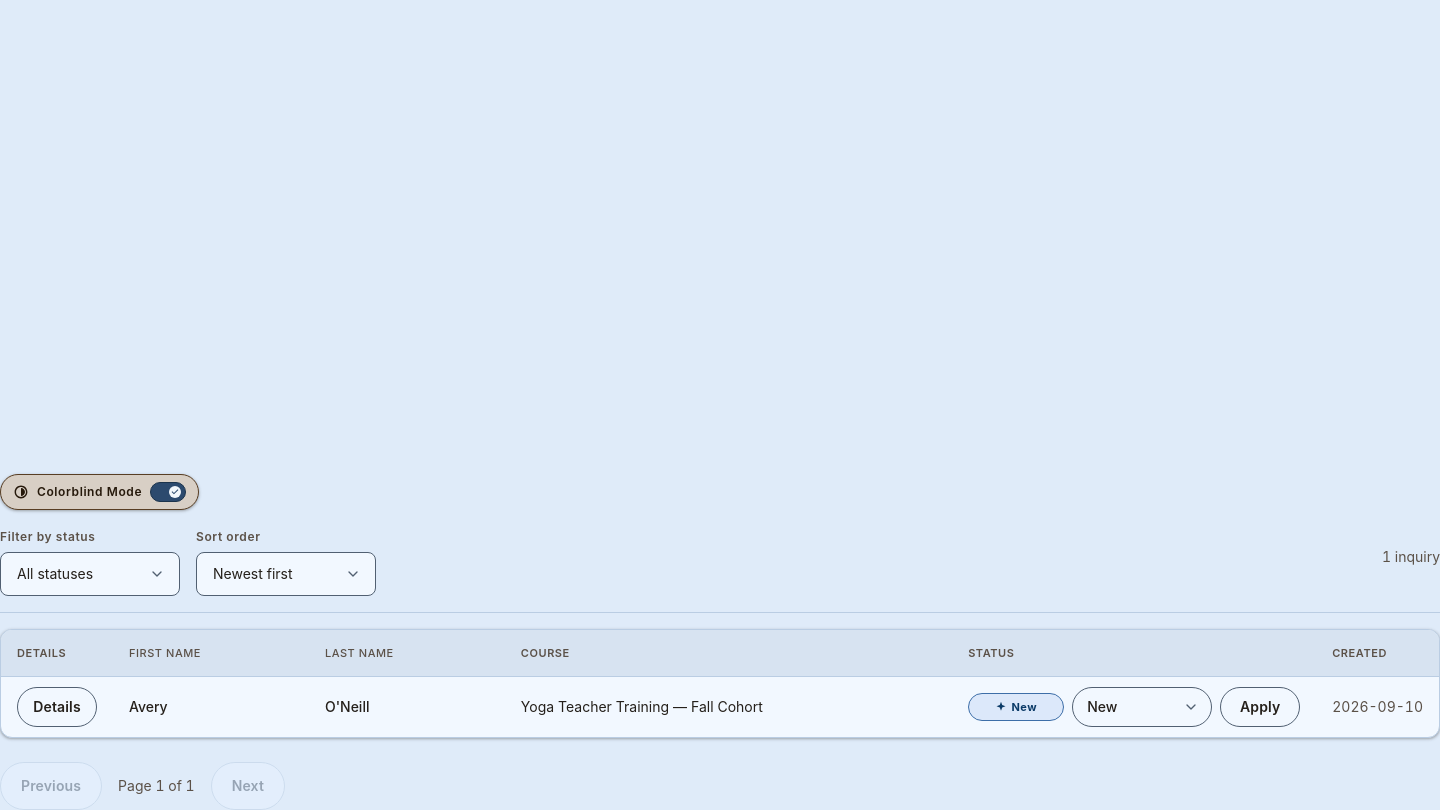
Material Design 3 Colorblind Mode › renders multimodal status badge inside DetailPanel modal when colorblind mode is active
(page scrolled)
Expected: the row "O'Neill" is shown, top-left (1, 677), bottom-right (1439, 737)
Step 1. Click the button with aria-label "Details for Avery O'Neill" → (57, 707), box top-left (17, 687), bottom-right (97, 727)
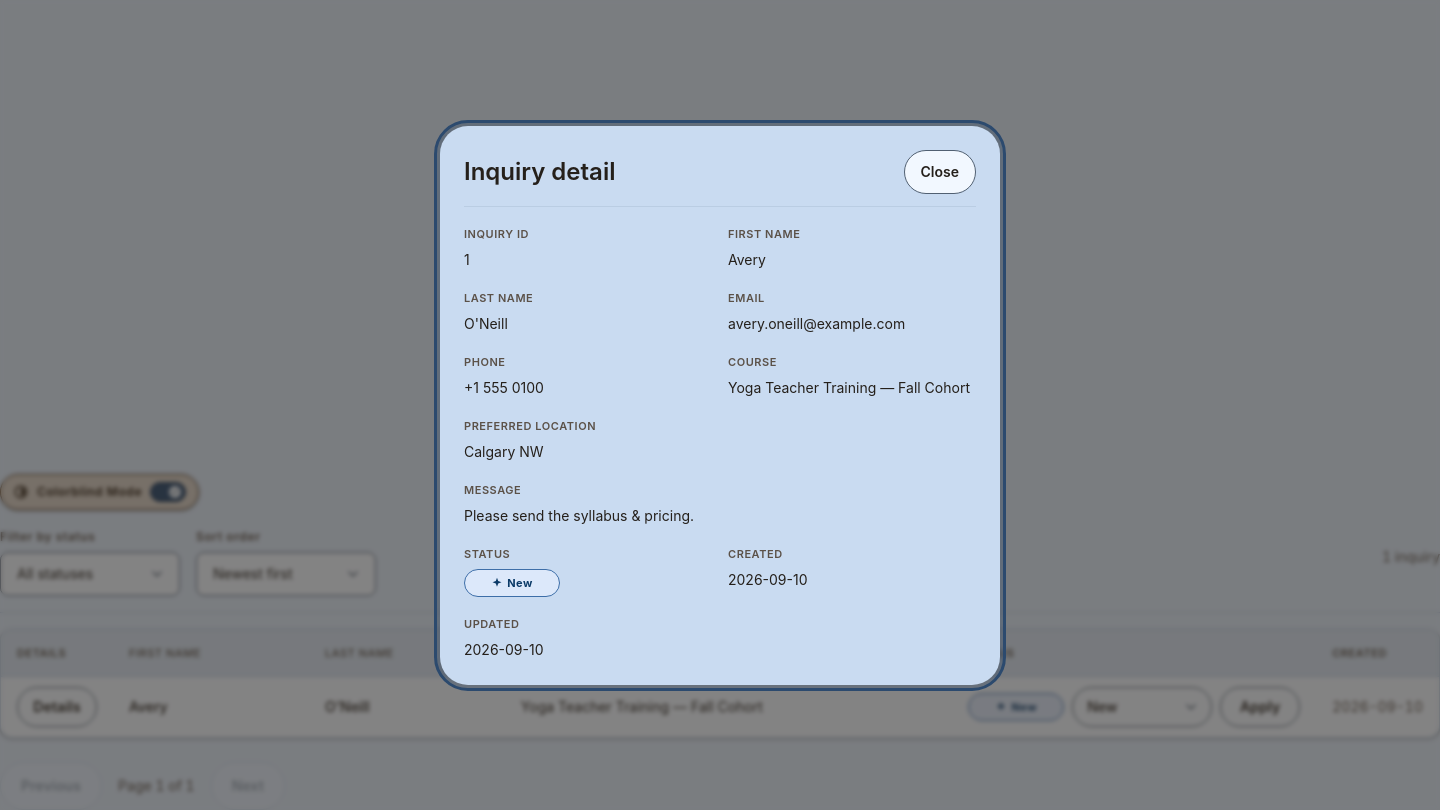
Expected: the text "Email" is shown, top-left (728, 290), bottom-right (765, 304)
Expected: the dialog with class "detail-panel" is shown, top-left (440, 126), bottom-right (1000, 684)
Expected: the 1st icon with class "status-badge-icon" is shown, top-left (491, 576), bottom-right (503, 588)
